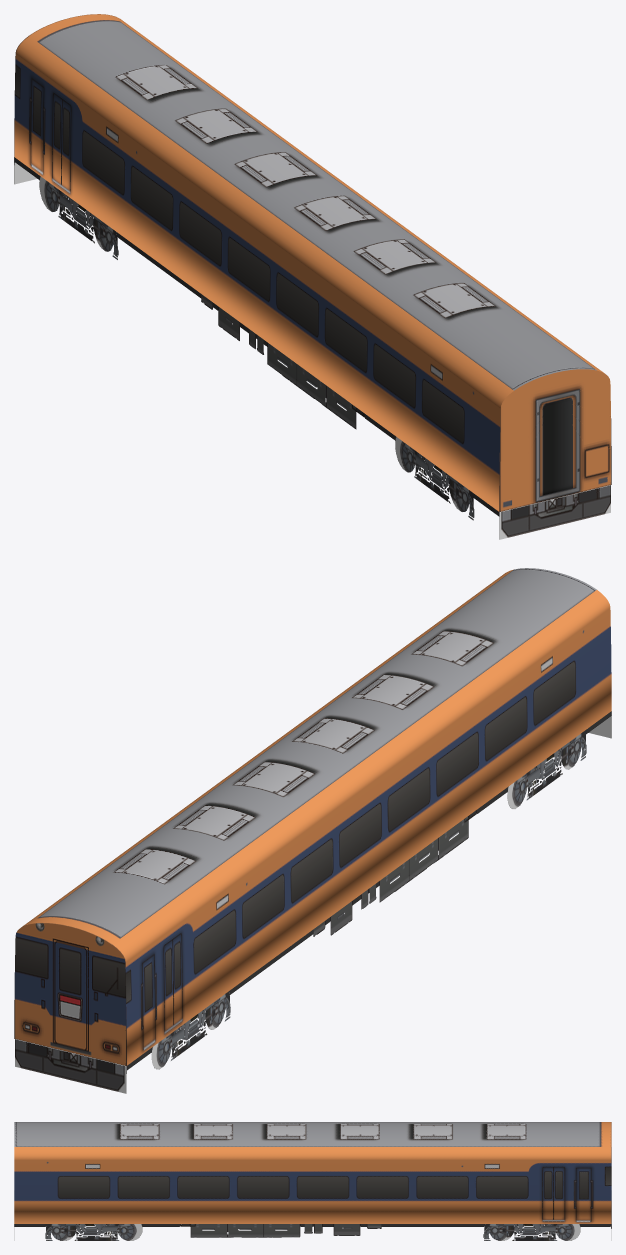
File: car2.glb
The picture shows the model from 3 angles, top to bottom: view 1: azimuth 30°, elevation 25°; view 2: azimuth 150°, elevation 25°; view 3: azimuth 270°, elevation 25°; orthographic projection. The views are drawn at different scales.
Parts seen in each view (by area): view 1: car2; view 2: car2; view 3: car2.
Boxes of the visible parts, x1,y1,x2,y2 form: car2: (14,14,611,539); car2: (14,568,611,1093); car2: (14,1122,611,1240).
Bounding box in the file's own units: 2.74 × 3.57 × 20.53.
Materials: 8 (7 with a texture image).
